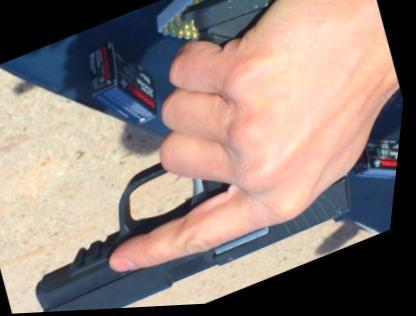pistol: (0, 0, 387, 313)
